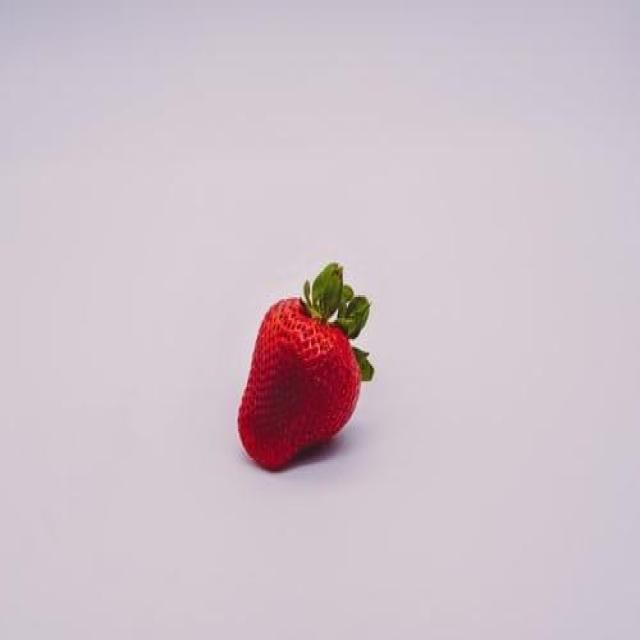mature: (236, 297, 362, 471)
